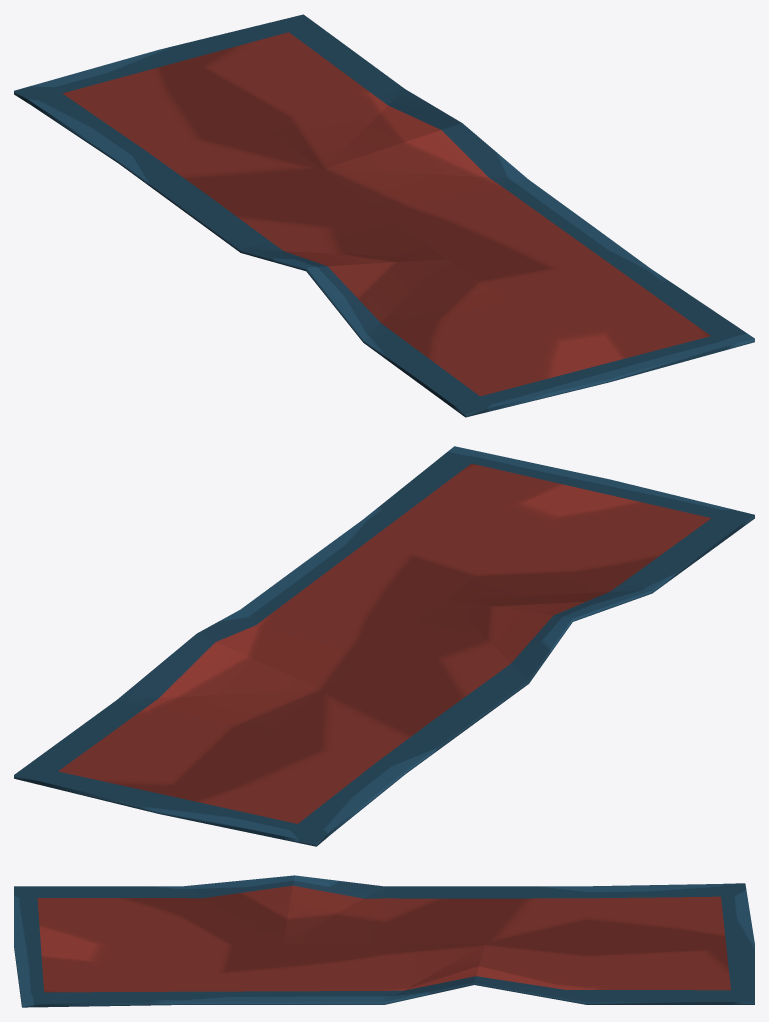
The model's file is SM_Prop_Rug_01.fbx.
3 views of the same model, one above another, from view 1: azimuth 30°, elevation 25°; view 2: azimuth 150°, elevation 25°; view 3: azimuth 270°, elevation 25° (orthographic). The views are drawn at different scales.
Parts seen in each view (by area): view 1: SM_Prop_Rug_01; view 2: SM_Prop_Rug_01; view 3: SM_Prop_Rug_01.
Part boxes in pixels (bbox=[...]): SM_Prop_Rug_01: bbox=[14, 14, 754, 417]; SM_Prop_Rug_01: bbox=[14, 446, 754, 846]; SM_Prop_Rug_01: bbox=[14, 875, 754, 1007].
Size of the model in its own units: 99.54 by 7.08 by 257.
